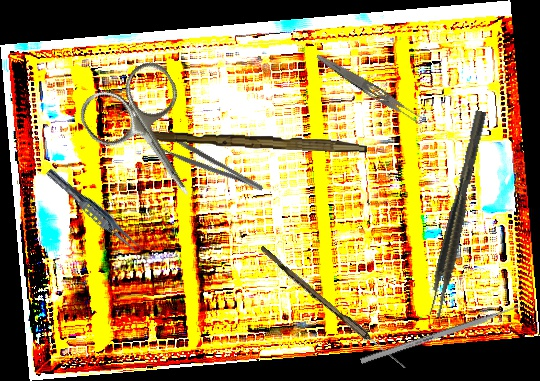Dressing Forceps: (312, 51, 428, 129), (156, 131, 265, 202)
Iris Scissors: (72, 55, 229, 222)
Pusher: (359, 300, 531, 365)
Scalpel Handle: (150, 130, 368, 153)
Surgical Spoon: (257, 245, 409, 372)
Tissue Forceps: (424, 109, 494, 319), (42, 166, 148, 258)
